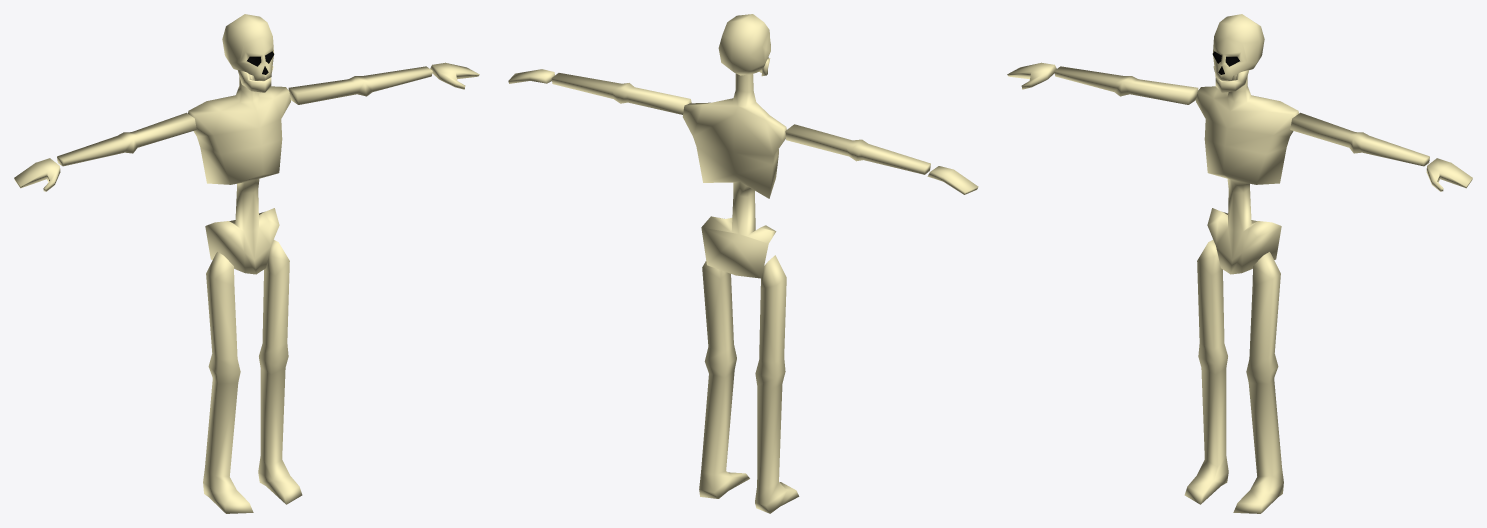
Rendered from Skelly_Parts.fbx.
3 views of the same model, side by side, from view 1: azimuth 30°, elevation 25°; view 2: azimuth 150°, elevation 25°; view 3: azimuth 330°, elevation 25° (orthographic).
Visible parts, largest first — view 1: skeleton_Rig.parts.005, skeleton_Rig.parts.007, skeleton_Rig.parts.006, skeleton_Rig.parts, skeleton_Rig.parts.003, skeleton_Rig.parts.001, skeleton_Rig.parts.004, skeleton_Rig.parts.002; view 2: skeleton_Rig.parts.005, skeleton_Rig.parts.007, skeleton_Rig.parts.006, skeleton_Rig.parts, skeleton_Rig.parts.003, skeleton_Rig.parts.001, skeleton_Rig.parts.004; view 3: skeleton_Rig.parts.005, skeleton_Rig.parts.006, skeleton_Rig.parts.007, skeleton_Rig.parts, skeleton_Rig.parts.001, skeleton_Rig.parts.003, skeleton_Rig.parts.002, skeleton_Rig.parts.004.
Part boxes in pixels (x1,y1,x2,y2): skeleton_Rig.parts.005: [188, 77, 290, 274]; skeleton_Rig.parts.007: [203, 252, 253, 513]; skeleton_Rig.parts.006: [258, 240, 302, 504]; skeleton_Rig.parts: [222, 14, 274, 92]; skeleton_Rig.parts.003: [57, 112, 196, 166]; skeleton_Rig.parts.001: [288, 66, 432, 104]; skeleton_Rig.parts.004: [14, 158, 60, 191]; skeleton_Rig.parts.002: [430, 62, 479, 89]; skeleton_Rig.parts.005: [682, 73, 786, 278]; skeleton_Rig.parts.007: [755, 255, 799, 513]; skeleton_Rig.parts.006: [699, 261, 749, 498]; skeleton_Rig.parts: [718, 14, 770, 76]; skeleton_Rig.parts.003: [785, 124, 930, 174]; skeleton_Rig.parts.001: [551, 73, 691, 114]; skeleton_Rig.parts.004: [927, 166, 978, 194]; skeleton_Rig.parts.005: [1196, 77, 1298, 274]; skeleton_Rig.parts.006: [1233, 252, 1283, 513]; skeleton_Rig.parts.007: [1184, 240, 1228, 504]; skeleton_Rig.parts: [1212, 14, 1264, 92]; skeleton_Rig.parts.001: [1290, 112, 1429, 166]; skeleton_Rig.parts.003: [1054, 66, 1198, 104]; skeleton_Rig.parts.002: [1426, 158, 1472, 191]; skeleton_Rig.parts.004: [1007, 62, 1056, 89].
Bounding box in the file's own units: 182 × 181 × 24.05.
1 material, 1 textured.
